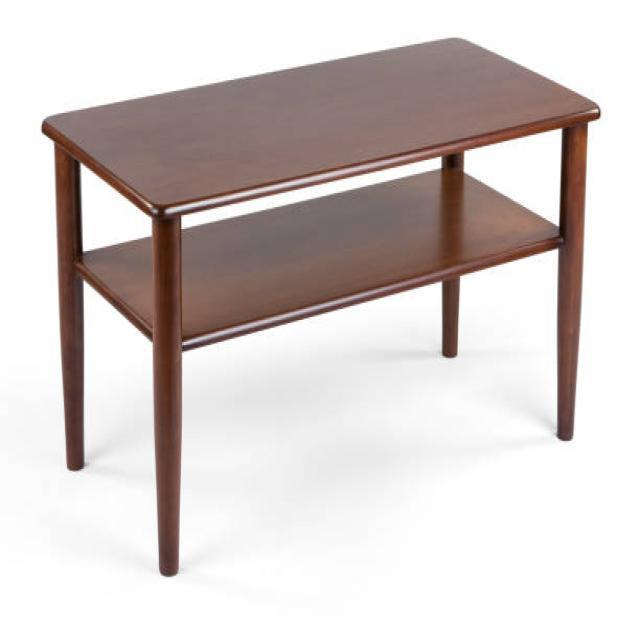table: (40, 34, 600, 576)
